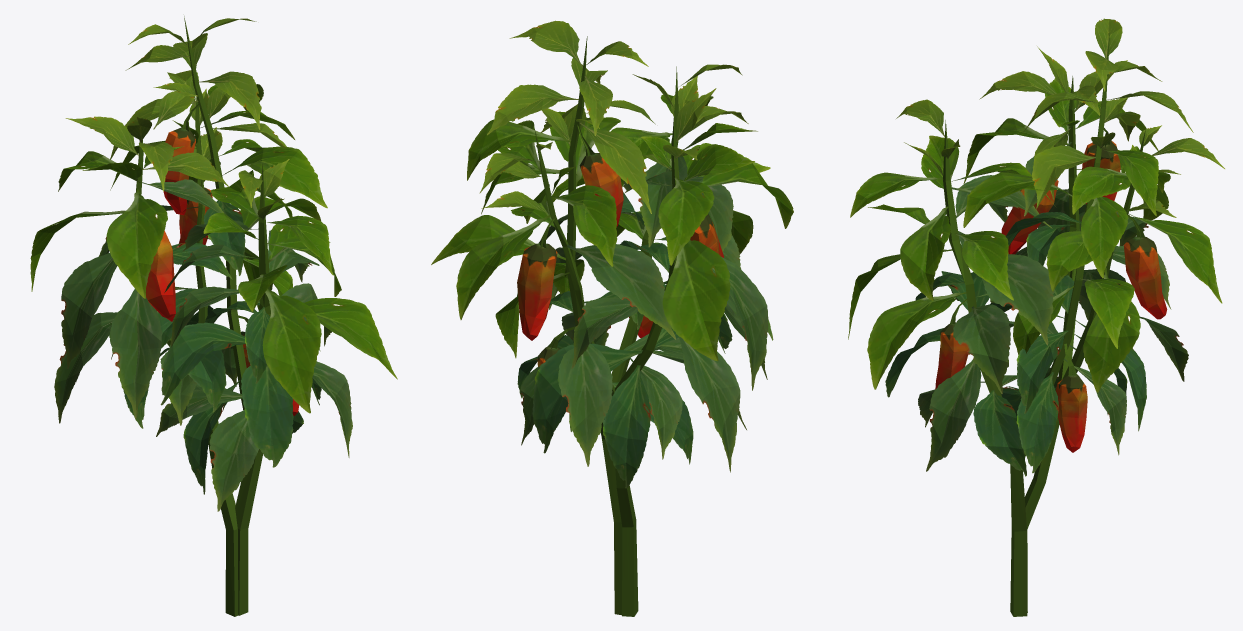
Rendered from P_Herb_00358.obj.
The picture shows the model from 3 angles, left to right: view 1: azimuth 30°, elevation 25°; view 2: azimuth 150°, elevation 25°; view 3: azimuth 270°, elevation 25°; orthographic projection. The views are drawn at different scales.
Bounding box in the file's own units: 0.6559 × 1.18 × 0.7263.
Materials: 1 (1 with a texture image).
